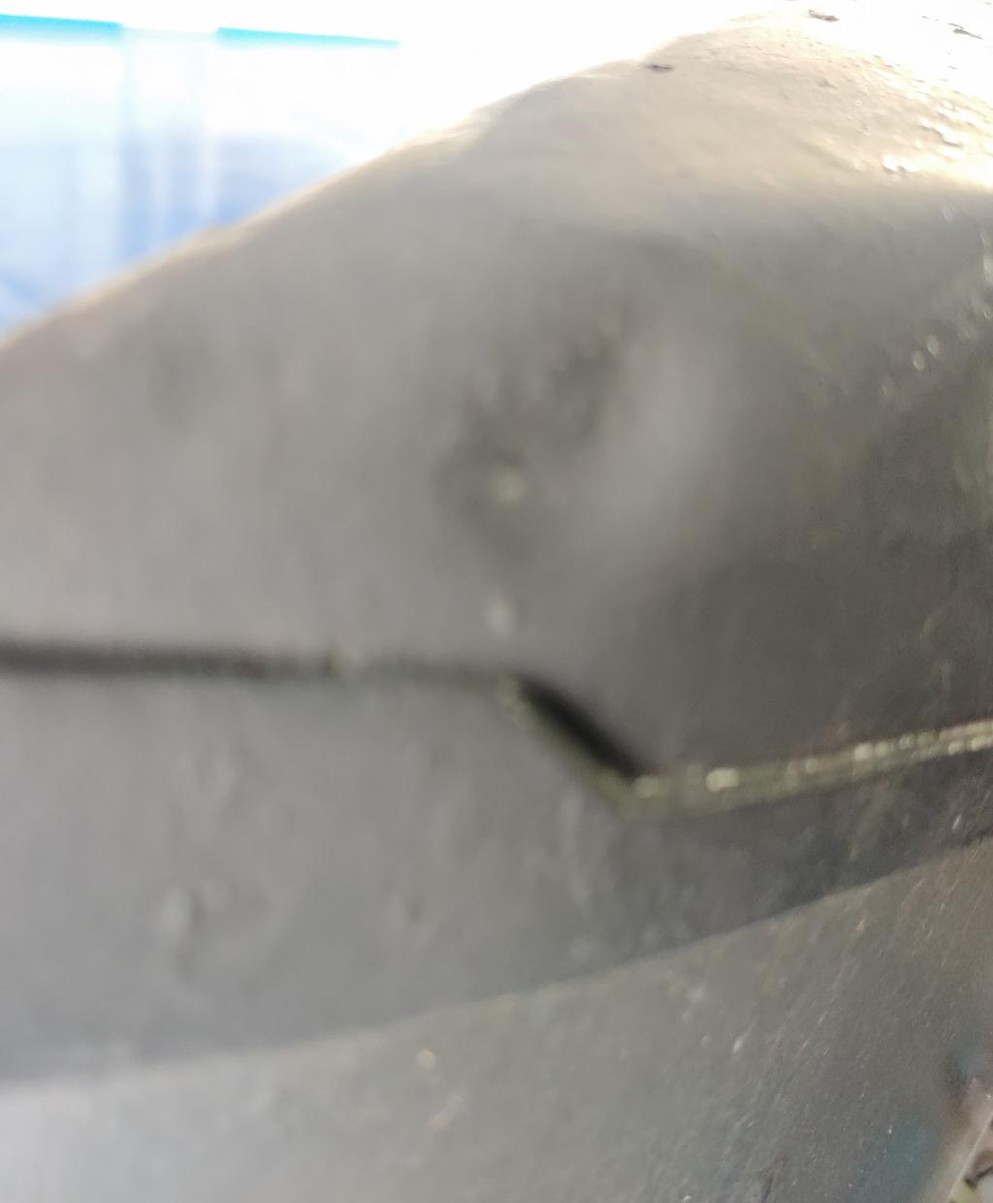dent: (401, 257, 758, 614)
